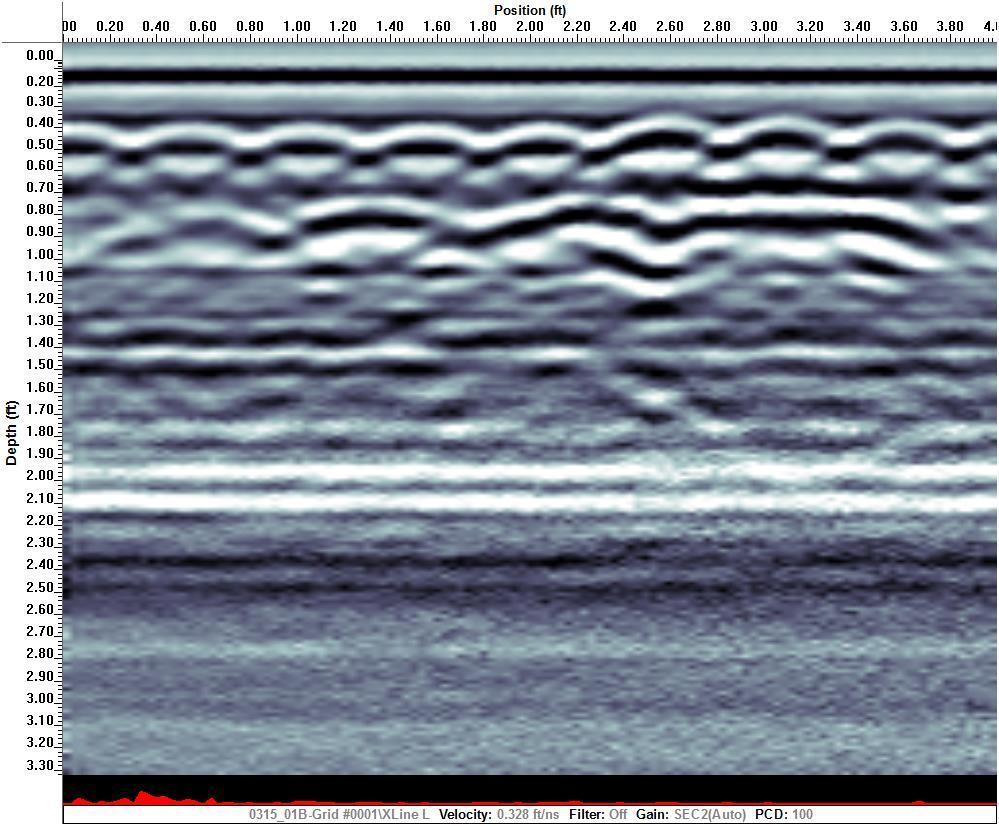hyperbola: (139, 117, 246, 160), (256, 118, 363, 161), (366, 111, 473, 154), (483, 115, 590, 158), (603, 104, 710, 147), (729, 111, 836, 154)
